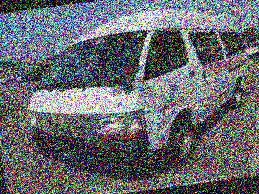van: (16, 0, 259, 187)
